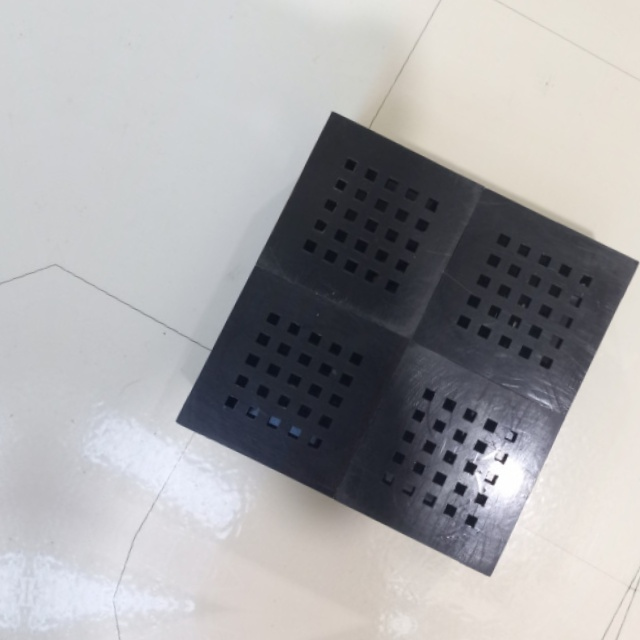pallet: (147, 103, 615, 590)
